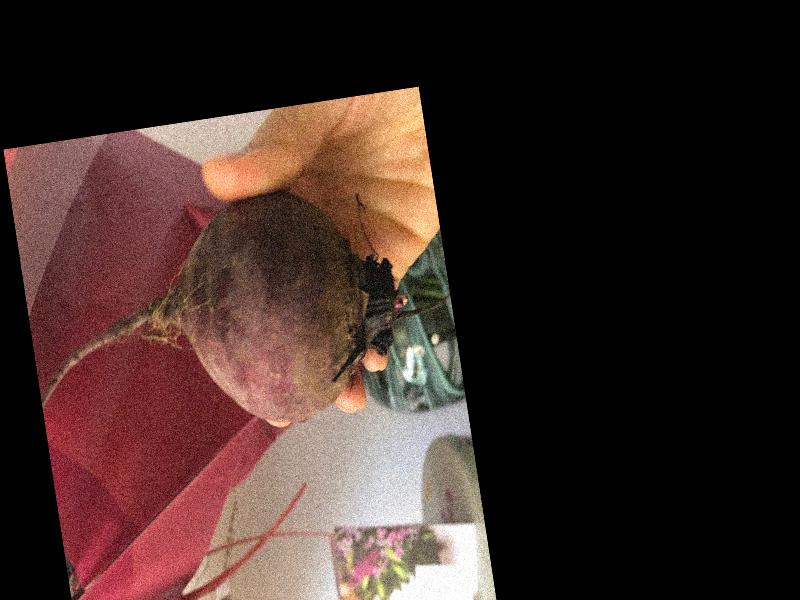Beet: (17, 168, 462, 459)
